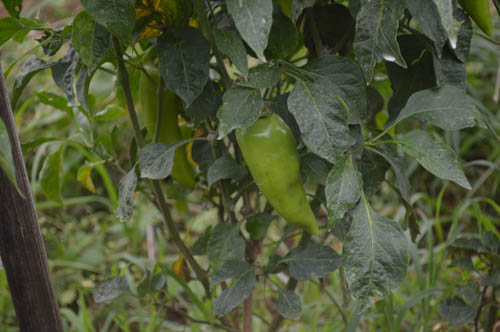ChiliPepper: (245, 117, 322, 237), (141, 68, 196, 188)
